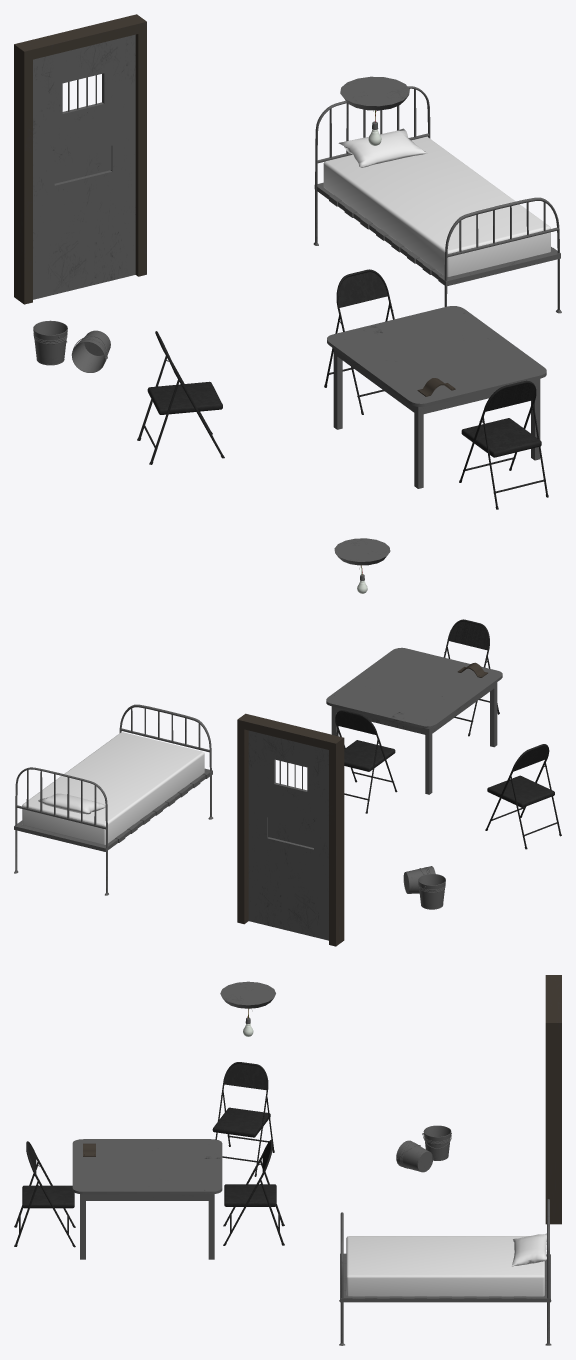
File: assets juego lal.fbx
3 renders of one model, top to bottom at view 1: azimuth 30°, elevation 25°; view 2: azimuth 150°, elevation 25°; view 3: azimuth 270°, elevation 25°, orthographic. The views are drawn at different scales.
Visible parts, largest first — view 1: puerta, colchon, mesa, marco puerta, rejilla cama, Silla2, Silla3, Silla1, soporte cables, Balde2, Balde1; view 2: puerta, colchon, mesa, marco puerta, rejilla cama, Silla3, Silla1, Silla2, soporte cables, Balde2; view 3: colchon, mesa, marco puerta, Silla3, rejilla cama, Silla2, Silla1, soporte cables, Balde1, Balde2.
Boxes of the visible parts, bbox=[...] form: puerta: bbox=[33, 34, 135, 299]; colchon: bbox=[323, 128, 550, 276]; mesa: bbox=[327, 306, 546, 488]; marco puerta: bbox=[14, 14, 146, 304]; rejilla cama: bbox=[313, 86, 561, 313]; Silla2: bbox=[459, 380, 548, 509]; Silla3: bbox=[137, 331, 224, 464]; Silla1: bbox=[324, 269, 394, 414]; soporte cables: bbox=[340, 76, 409, 110]; Balde2: bbox=[33, 320, 67, 365]; Balde1: bbox=[71, 330, 110, 372]; puerta: bbox=[248, 730, 328, 940]; colchon: bbox=[22, 732, 204, 844]; mesa: bbox=[326, 647, 502, 794]; marco puerta: bbox=[237, 713, 344, 946]; rejilla cama: bbox=[14, 704, 213, 895]; Silla3: bbox=[485, 744, 561, 849]; Silla1: bbox=[335, 710, 397, 813]; Silla2: bbox=[443, 619, 499, 736]; soporte cables: bbox=[334, 538, 390, 565]; Balde2: bbox=[418, 874, 445, 909]; colchon: bbox=[346, 1233, 546, 1296]; mesa: bbox=[72, 1139, 222, 1259]; marco puerta: bbox=[545, 975, 561, 1224]; Silla3: bbox=[212, 1062, 274, 1176]; rejilla cama: bbox=[339, 1199, 551, 1345]; Silla2: bbox=[14, 1141, 75, 1247]; Silla1: bbox=[223, 1140, 284, 1245]; soporte cables: bbox=[220, 981, 275, 1008]; Balde1: bbox=[396, 1140, 433, 1172]; Balde2: bbox=[422, 1125, 451, 1160].
Size of the model in its own units: 593 by 379 by 733.
